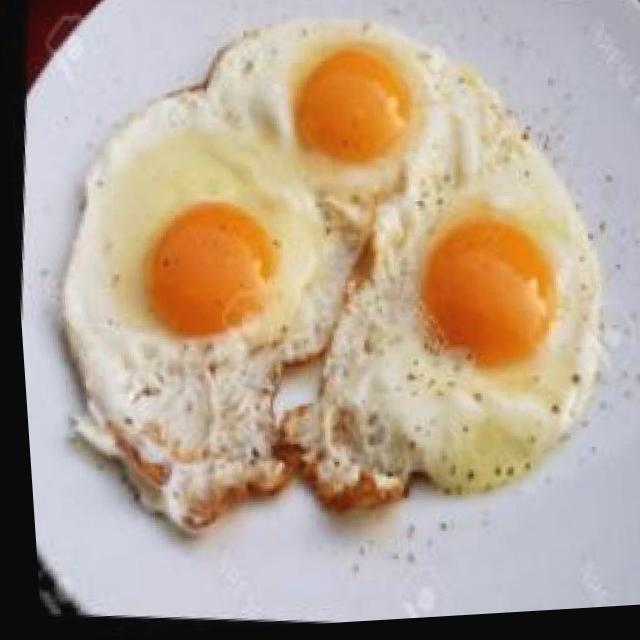fried_eggs: (23, 0, 640, 572)
